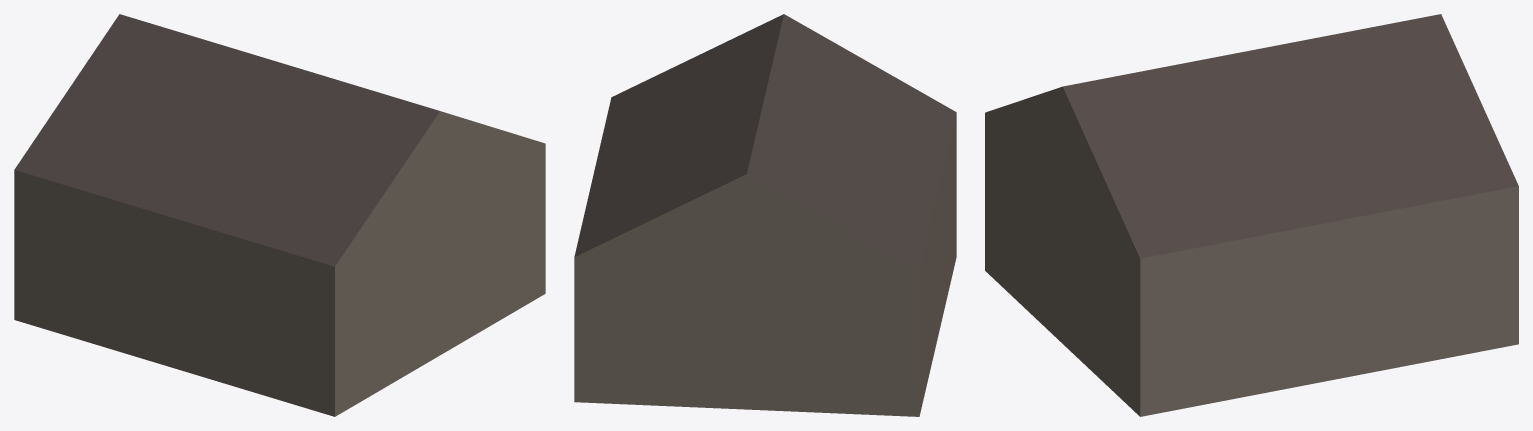
3 renders of one model, left to right at view 1: azimuth 30°, elevation 25°; view 2: azimuth 150°, elevation 25°; view 3: azimuth 270°, elevation 25°, orthographic. The views are drawn at different scales.
Visible parts, largest first — view 1: HP-w859088450; view 2: HP-w859088450; view 3: HP-w859088450.
Boxes of the visible parts, x1,y1,x2,y2 form: HP-w859088450: (14,14,545,416); HP-w859088450: (574,14,956,416); HP-w859088450: (985,14,1518,416).
Size of the model in its own units: 17.79 by 9.76 by 18.35.
